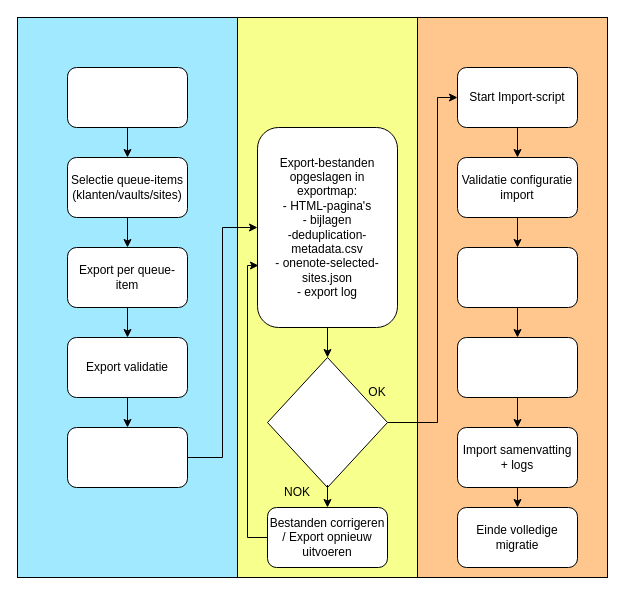
This 625x595 diagram has some shape labels left out. The shapes that lost their labels are listed below. From the top down, each one's box as (x1, y1, x2, y2) in pixels, then its label:
(66, 66, 188, 128): Start Export-script
(456, 246, 578, 308): Mapping klantnaam naar vault
(456, 336, 578, 398): Import per klantmap naar RDM
(266, 356, 388, 488): Kwaliteits- controle bestanden OK?
(66, 426, 188, 488): Export samenvatting + logs
